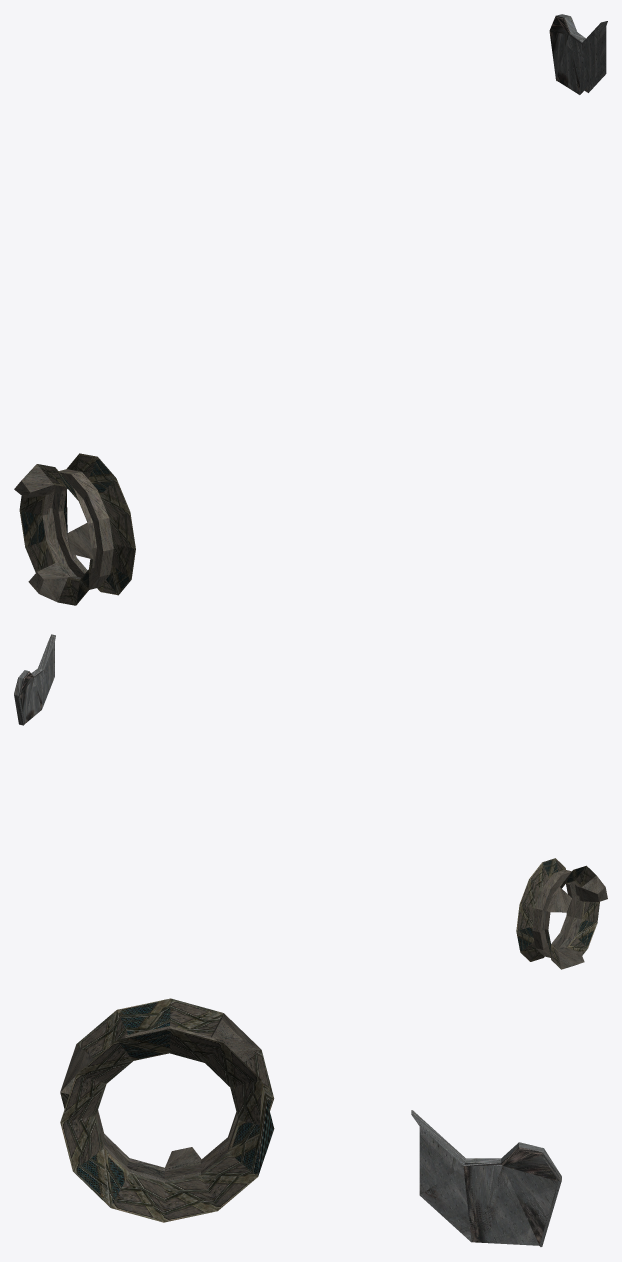
The model's file is CO_BASE_ROCK_LARGE02.fbx.
The picture shows the model from 3 angles, top to bottom: view 1: azimuth 30°, elevation 25°; view 2: azimuth 150°, elevation 25°; view 3: azimuth 270°, elevation 25°; orthographic projection. The views are drawn at different scales.
Visible parts, largest first — view 1: CO_BASE_ROCK_LARGE01_ms3d_mo; view 2: CO_BASE_ROCK_LARGE01_ms3d_mo; view 3: CO_BASE_ROCK_LARGE01_ms3d_mo.
Part boxes in pixels (x1,y1,x2,y2): CO_BASE_ROCK_LARGE01_ms3d_mo: [14, 14, 607, 605]; CO_BASE_ROCK_LARGE01_ms3d_mo: [14, 634, 607, 969]; CO_BASE_ROCK_LARGE01_ms3d_mo: [60, 998, 561, 1246].
Bounding box in the file's own units: 183983 × 97969 × 84311.
2 materials, 2 textured.
